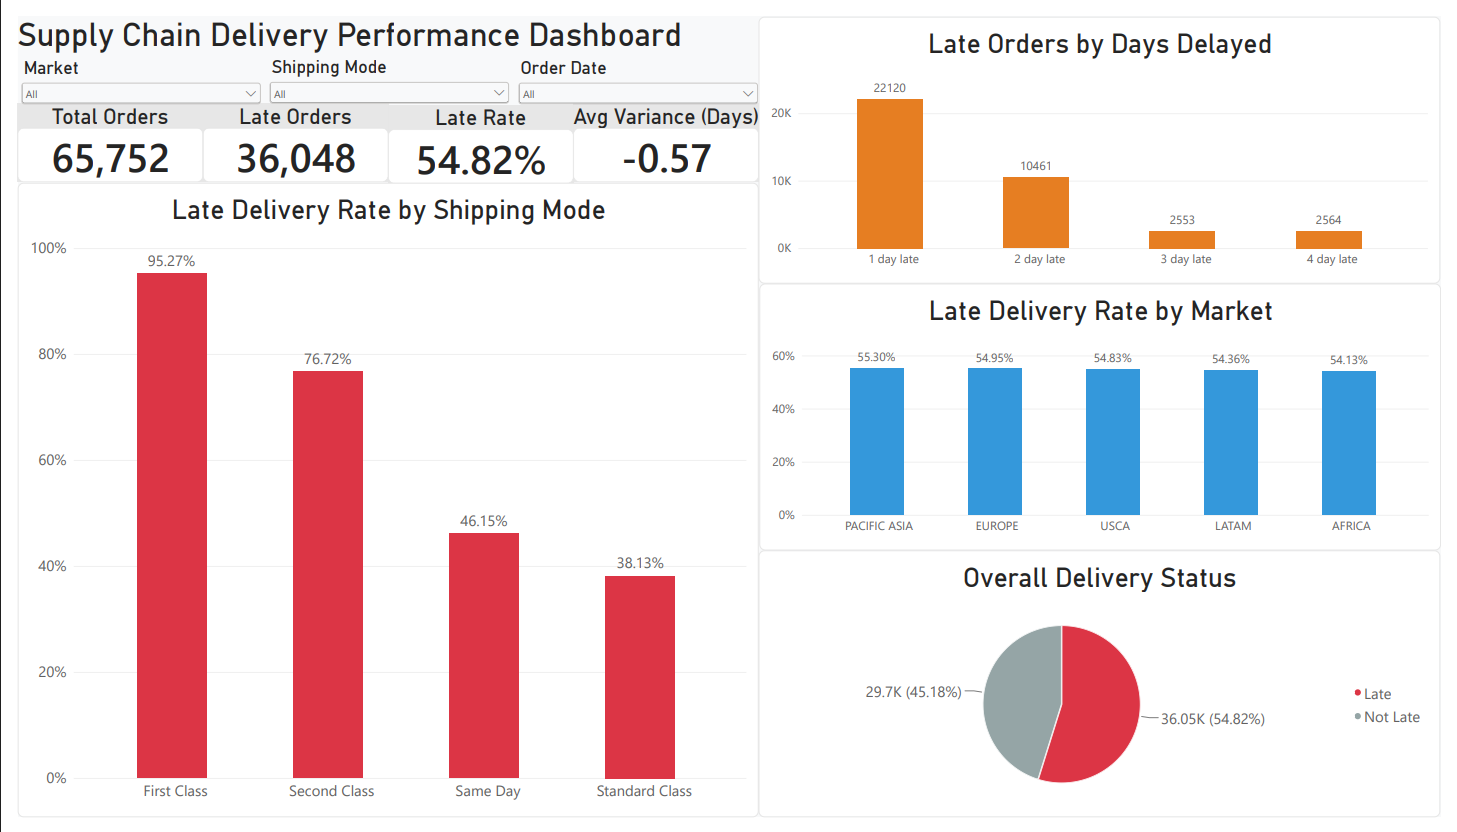

Layout of this report page (visuals, bound fields, positions):
{"tool":"powerbi","page":{"name":"Page 1","canvas":[1920,1080],"ordinal":0},"visuals":[{"type":"cardVisual","title":"Total Orders","fields":{"Data":["Table1.Total Orders Display"]},"box":[0,126,250,106],"z":1000},{"type":"cardVisual","title":"Late  Orders","fields":{"Data":["Table1.Total Orders Display"]},"box":[250,126,250,106],"z":2000},{"type":"cardVisual","title":"Late Rate","fields":{"Data":["Table1.Measure"]},"box":[500,128,250,106],"z":3000},{"type":"columnChart","title":"Late Delivery Rate by Shipping Mode","fields":{"Category":["Table1.Shipping Mode"],"Y":["Table1.Late Delivery Rate"]},"box":[0,233.4,1000,847.5],"z":4000},{"type":"cardVisual","title":"Avg Variance","fields":{"Data":["Table1.Average Schedule Variance"]},"box":[750,126,250,106],"z":5000},{"type":"columnChart","title":"Late Orders by Days Delayed","fields":{"Category":["Table1.Days Late Label"],"Y":["Count(Table1.Order Id)"]},"box":[1000,0,920,360],"z":6000},{"type":"columnChart","title":"Late Delivery Rate by Market","fields":{"Category":["Table1.Market"],"Y":["Table1.Late Delivery Rate"]},"box":[1000.7,360.1,920,360],"z":7000},{"type":"pieChart","title":"Overall Delivery Status","fields":{"Category":["Table1.Late_delivery_risk(labeled)"],"Y":["Count(Table1.Order Id)"]},"box":[1000,720,920,360],"z":8000},{"type":"textbox","box":[0,0,670,60],"z":9000},{"type":"slicer","fields":{"Values":["Table1.Market"]},"box":[0,52.9,264.3,72.9],"z":10000},{"type":"slicer","fields":{"Values":["Table1.Shipping Mode"]},"box":[264.3,52.9,235.7,75.7],"z":11000},{"type":"slicer","fields":{"Values":["Table1.Order Date"]},"box":[500,54,254,74],"z":12000}]}

Visuals, with their boxes in screenshot pixels (x1, y1, x2, y2), scaled from the page's 1920x1080 canvas onto the 1457x832 screenshot:
"Total Orders" cardVisual: (0,97,190,179)
"Late  Orders" cardVisual: (190,97,379,179)
"Late Rate" cardVisual: (379,99,569,180)
"Late Delivery Rate by Shipping Mode" columnChart: (0,180,759,831)
"Avg Variance" cardVisual: (569,97,759,179)
"Late Orders by Days Delayed" columnChart: (759,0,1456,277)
"Late Delivery Rate by Market" columnChart: (759,277,1456,555)
"Overall Delivery Status" pieChart: (759,555,1456,831)
textbox: (0,0,508,46)
slicer - Table1.Market: (0,41,201,97)
slicer - Table1.Shipping Mode: (201,41,379,99)
slicer - Table1.Order Date: (379,42,572,99)
